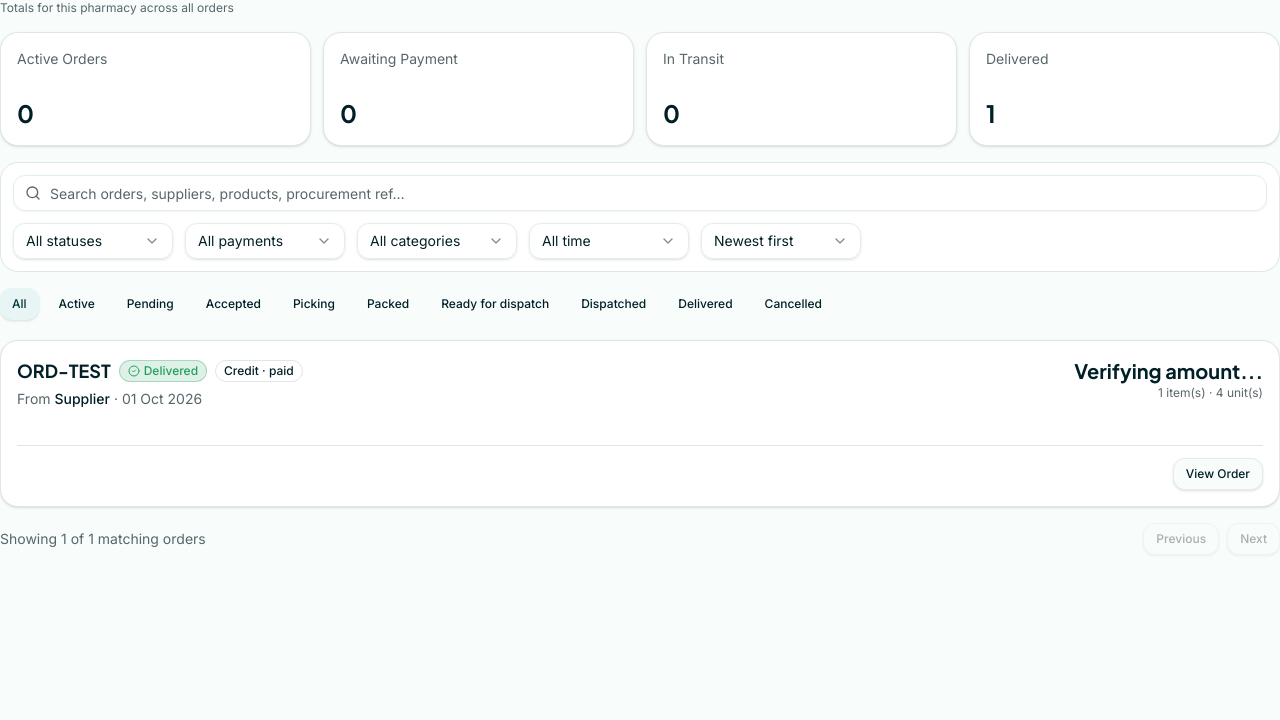
Test case: orders audit UI regressions › blocks financial documents when supply lookup fails
What coordinates should you click on to do the following:
click the button "View Order"
I would click on:
 (1218, 474)
Its box is [1173,458,1263,490].
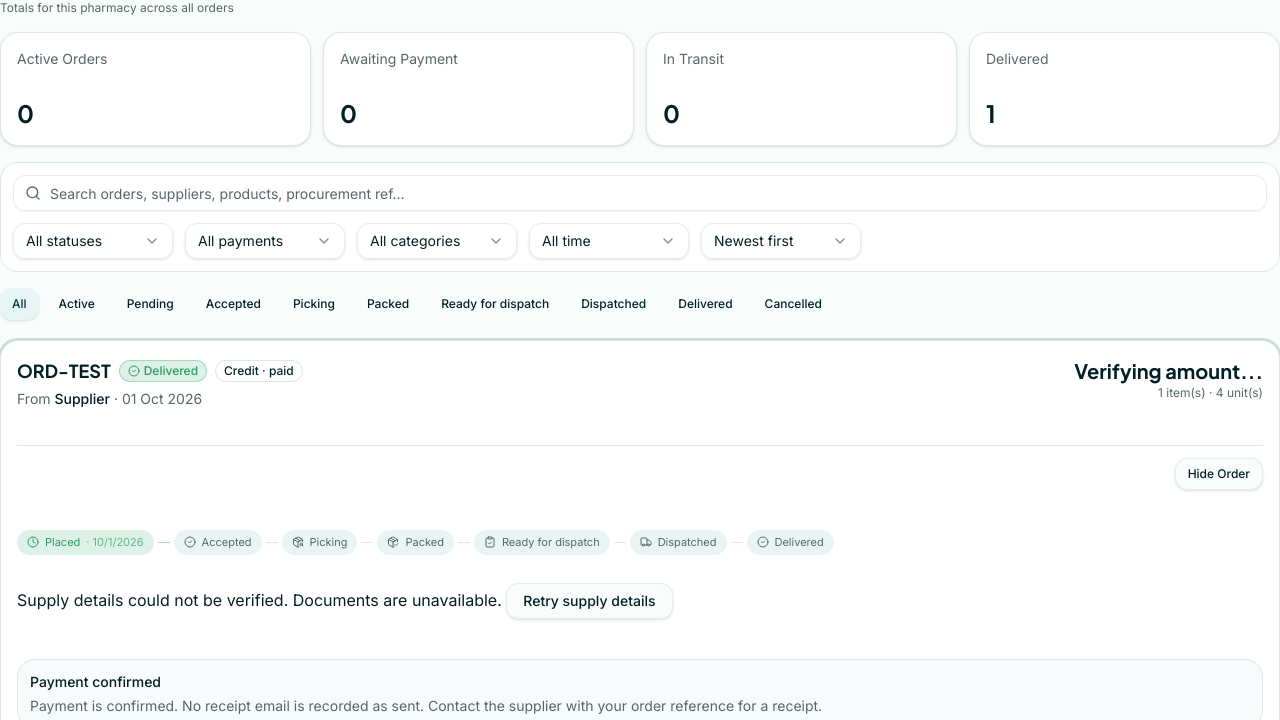
Expected: the text "Supply details could not be verified" is shown, [17,590,502,610]
